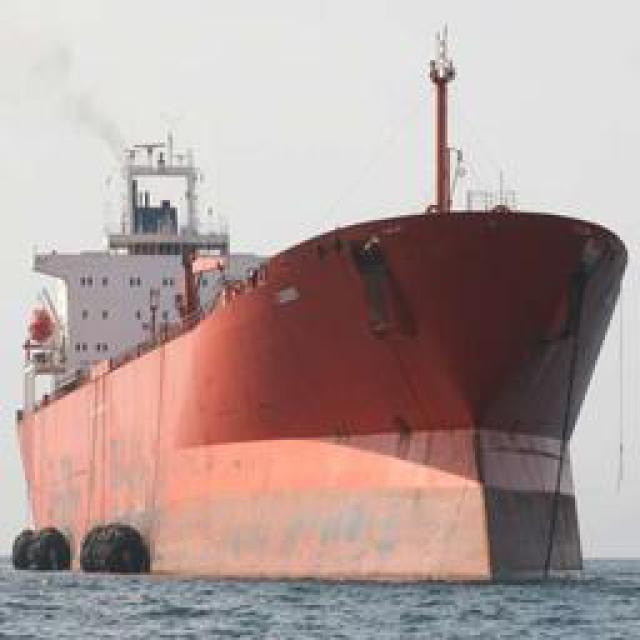Ship: (32, 187, 630, 590)
